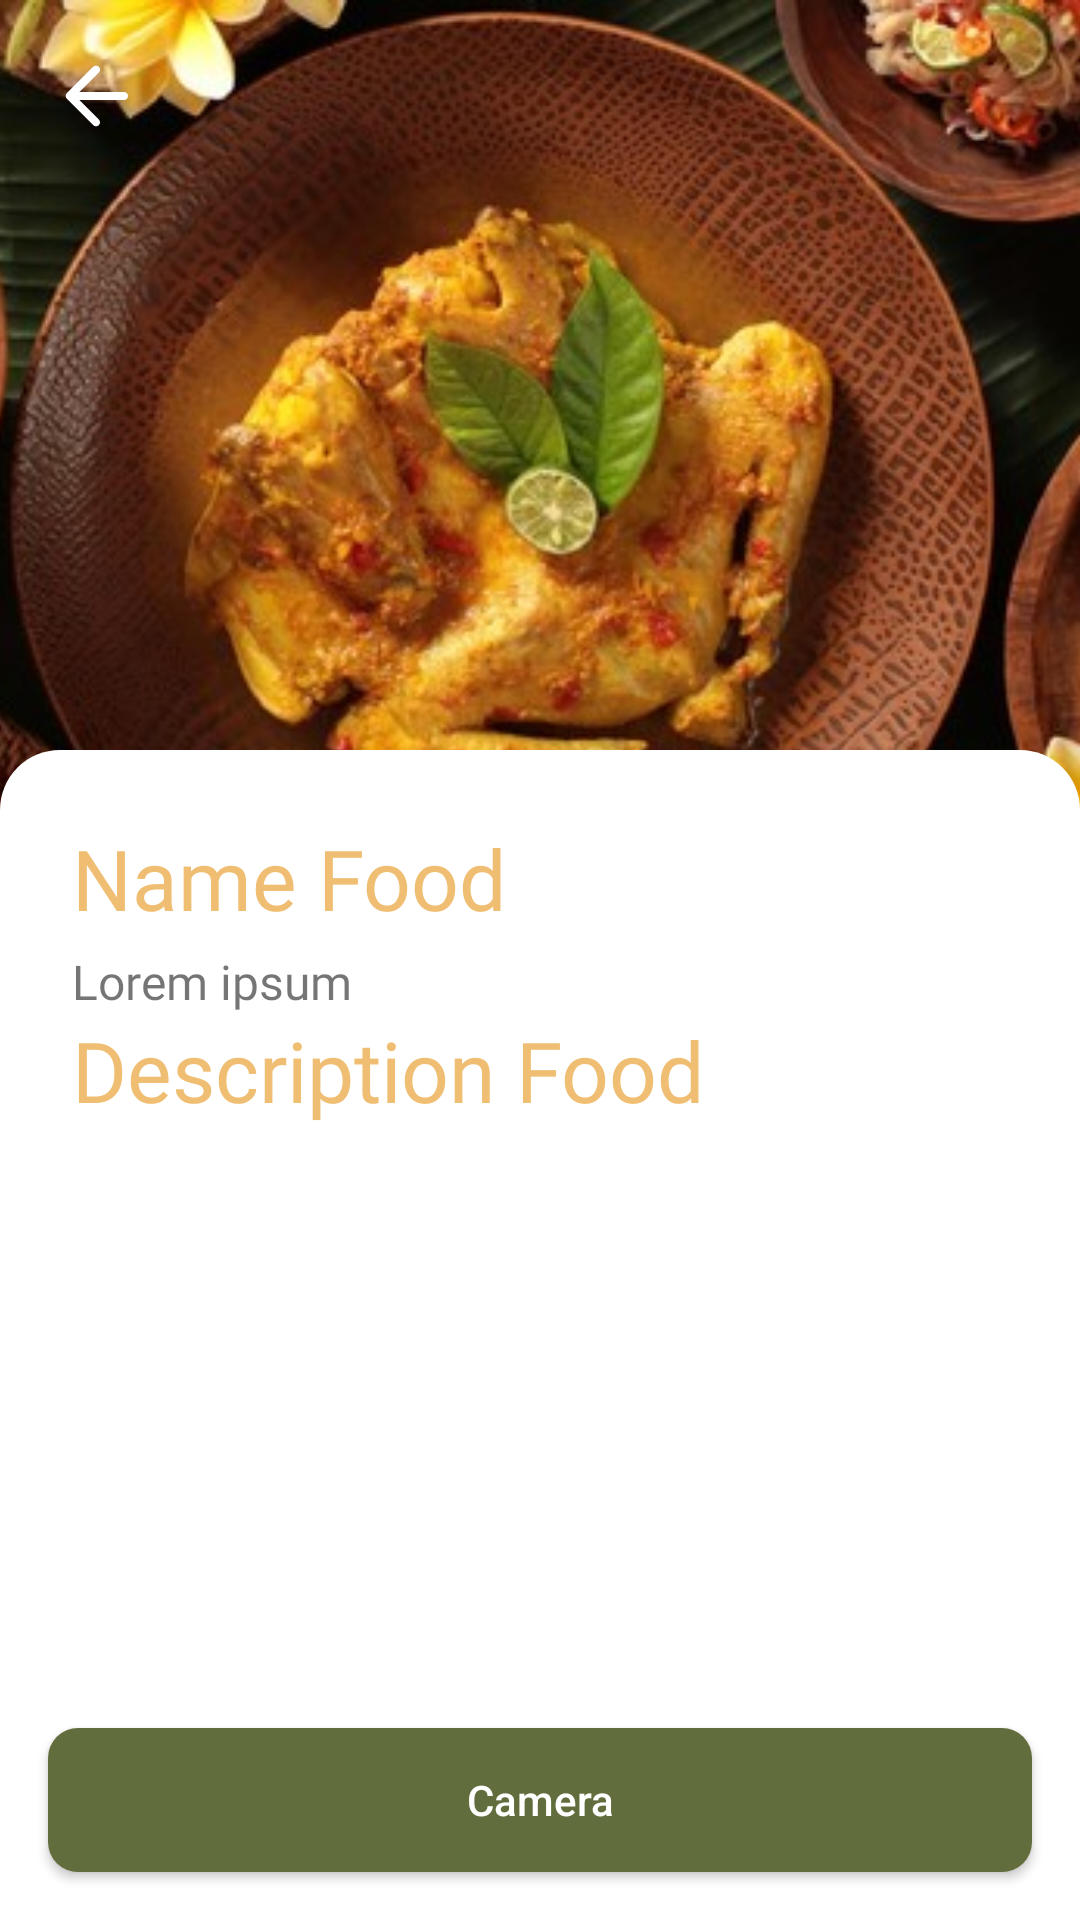

Named icons in this screenshot (1080px×1920px) and their centers, [x,y]:
back: [96,96]
